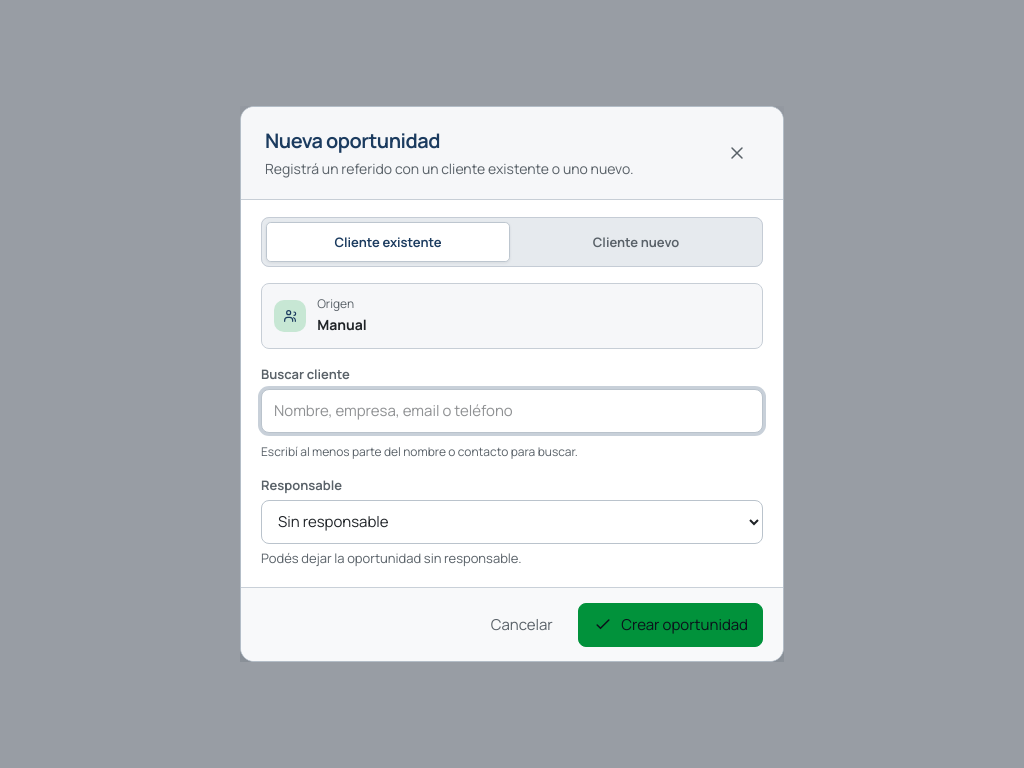
it: ManualOpportunityModal › creates a new customer and offers deliberate reuse on an exact match
The image size is (1024, 768).
Click the button "Cliente nuevo": (636, 242) [514,222,758,262]
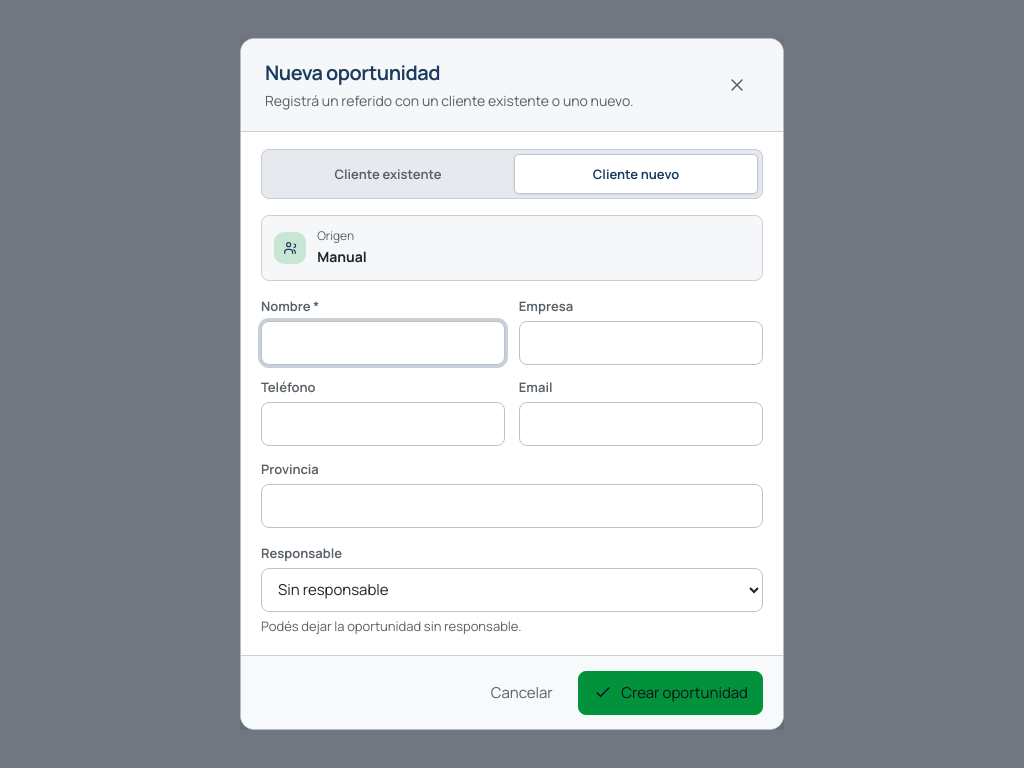
Click the button "Cliente existente": (388, 174) [266,154,510,194]
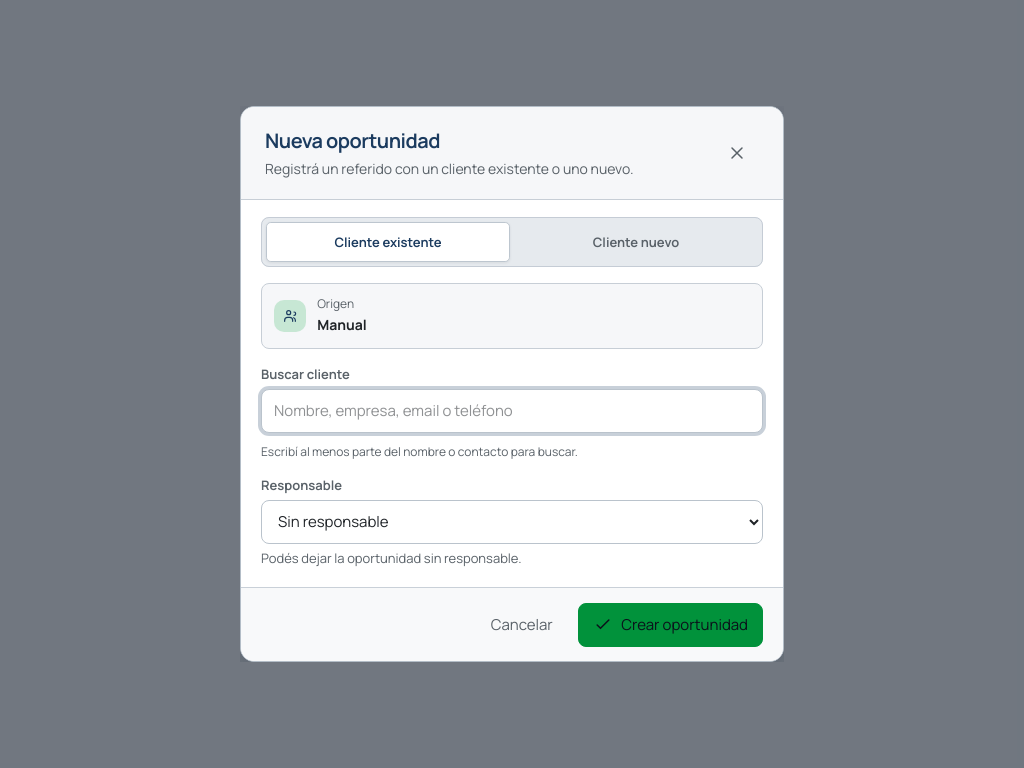
Click the button "Cliente nuevo": (636, 242) [514,222,758,262]
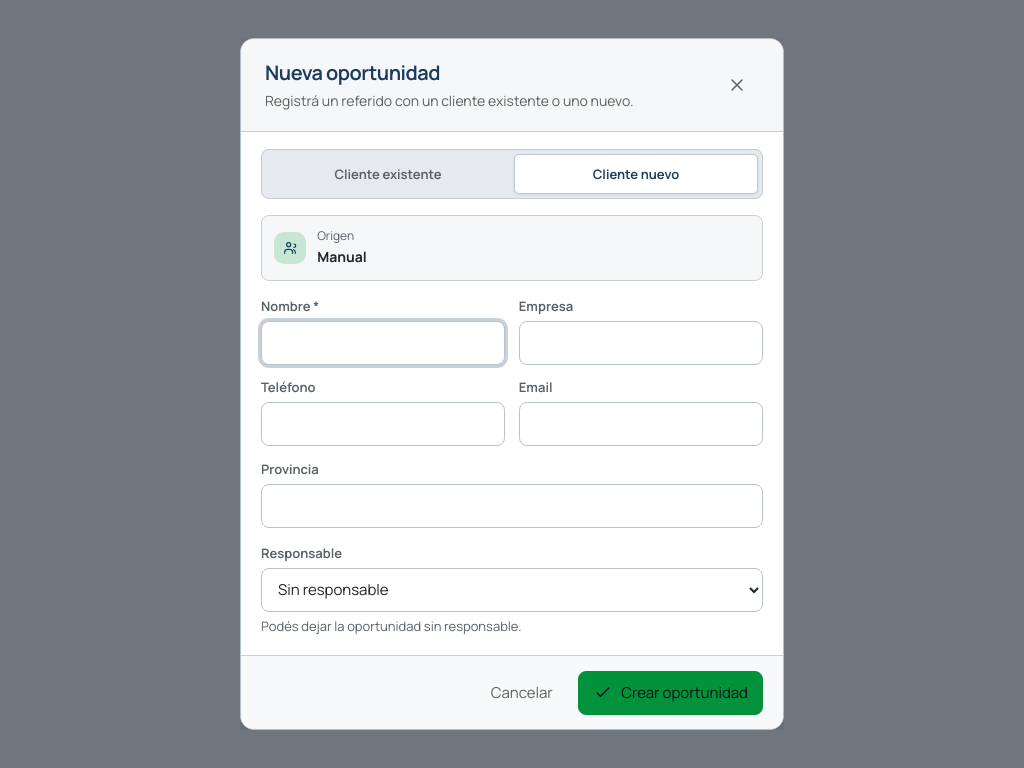
In the field labelled "Nombre *": (383, 343) [261,321,505,365], type "Esteban Ríos"
In the field labelled "Email": (641, 424) [519,402,763,446], type "esteban@vial.test"
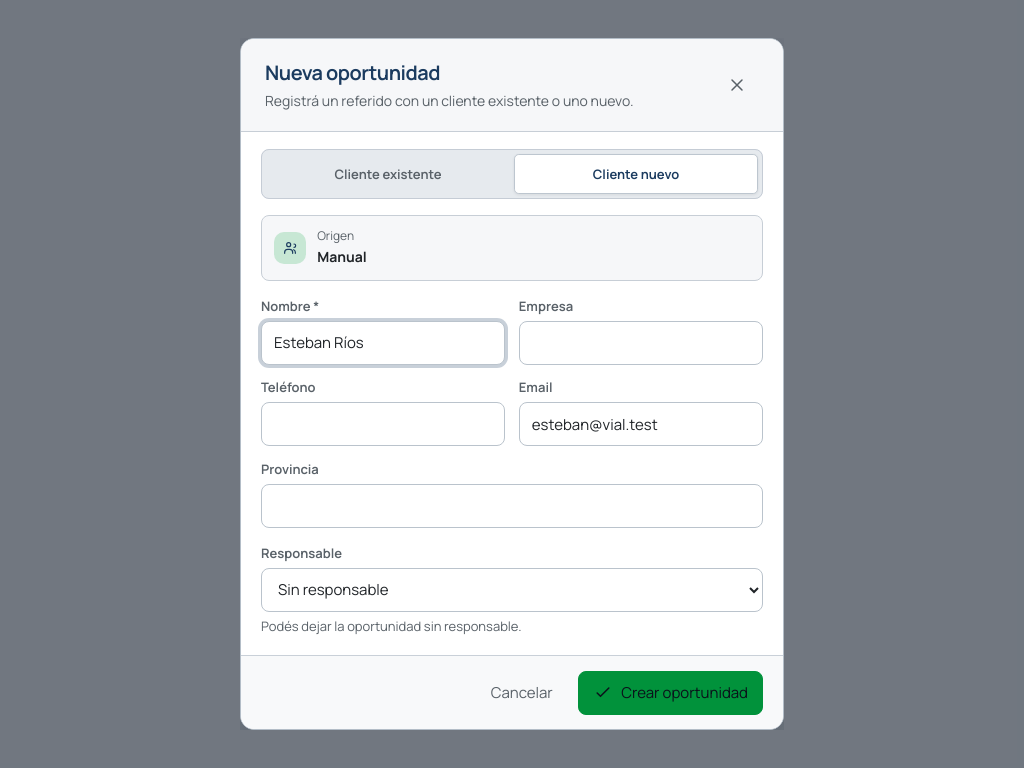
Click the button "Crear oportunidad": (671, 693) [578,671,763,715]
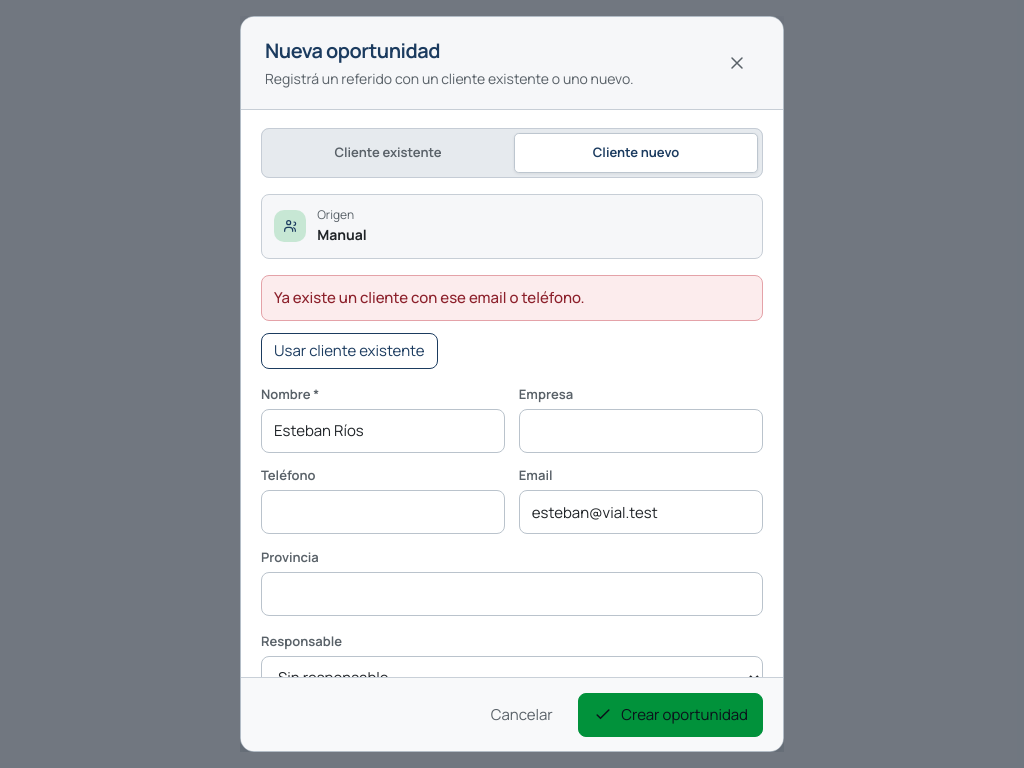
Check: the text "Ya existe un cliente con ese email o teléfono." is shown, box [274,286,585,309]
Click the button "Usar cliente existente": (349, 351) [261,333,438,369]
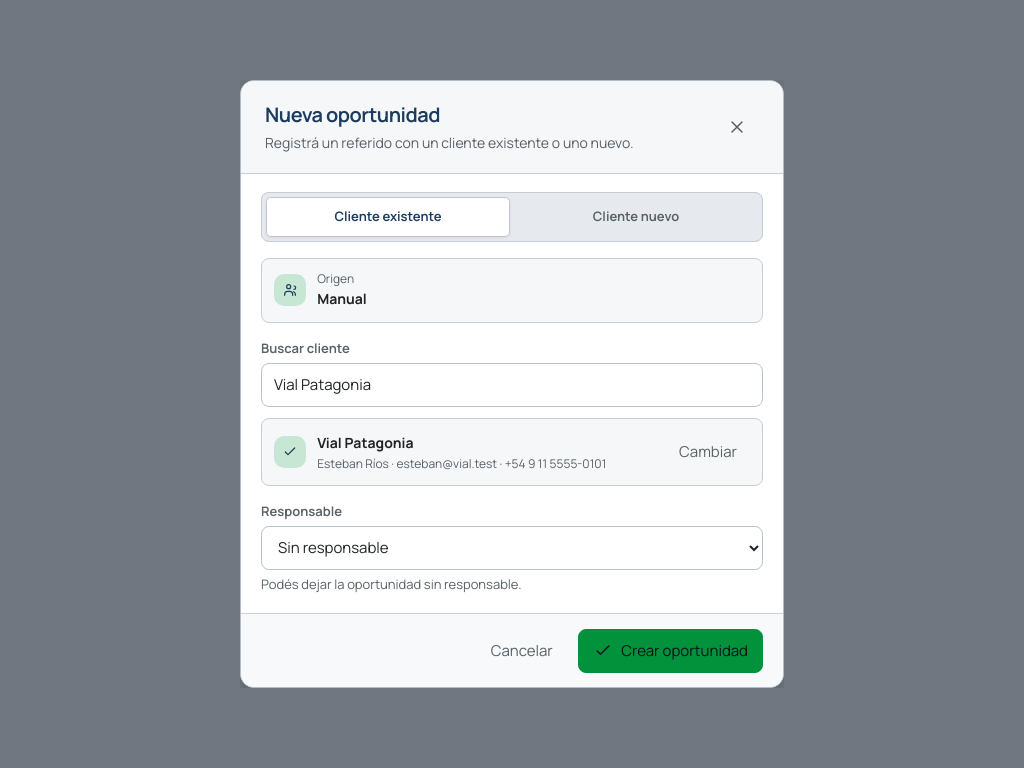
Check: the text "Vial Patagonia" is shown, box [317,433,414,452]
Check: the text "Esteban Ríos · esteban@vial.test · +54 9 11 5555-0101" is shown, box [317,456,655,473]
